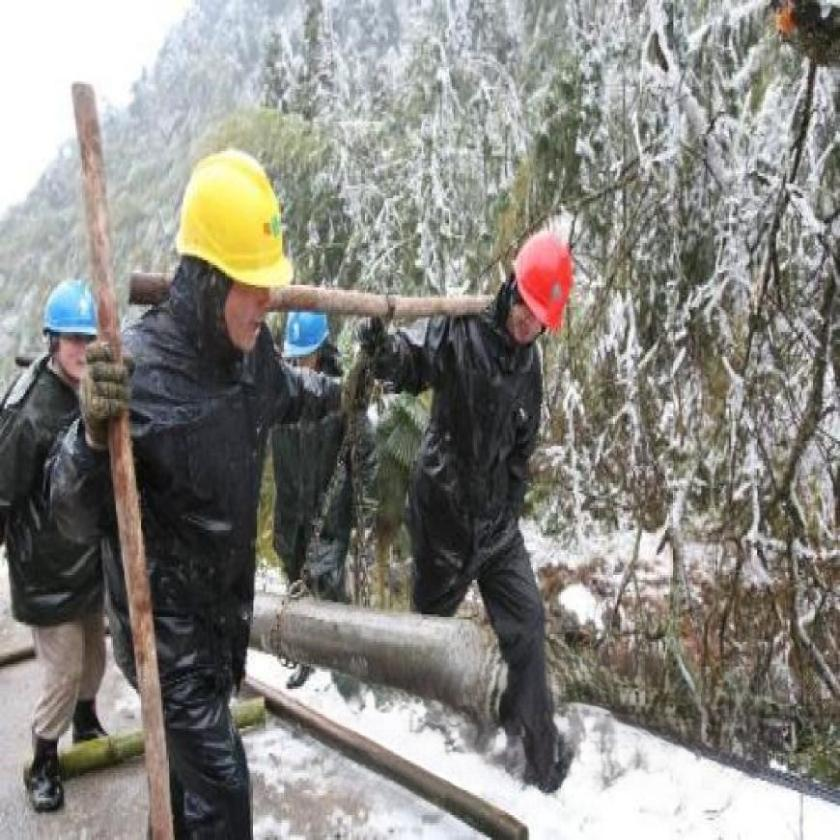Con_casco: (167, 149, 295, 360), (494, 229, 576, 378), (50, 276, 114, 387)
